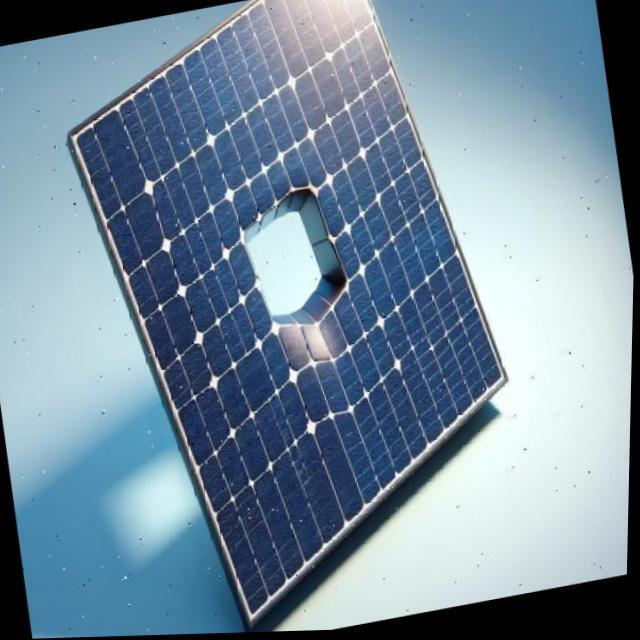Anomaly Solar Panel: (46, 0, 554, 617)
Structural Damage: (234, 179, 362, 340)
